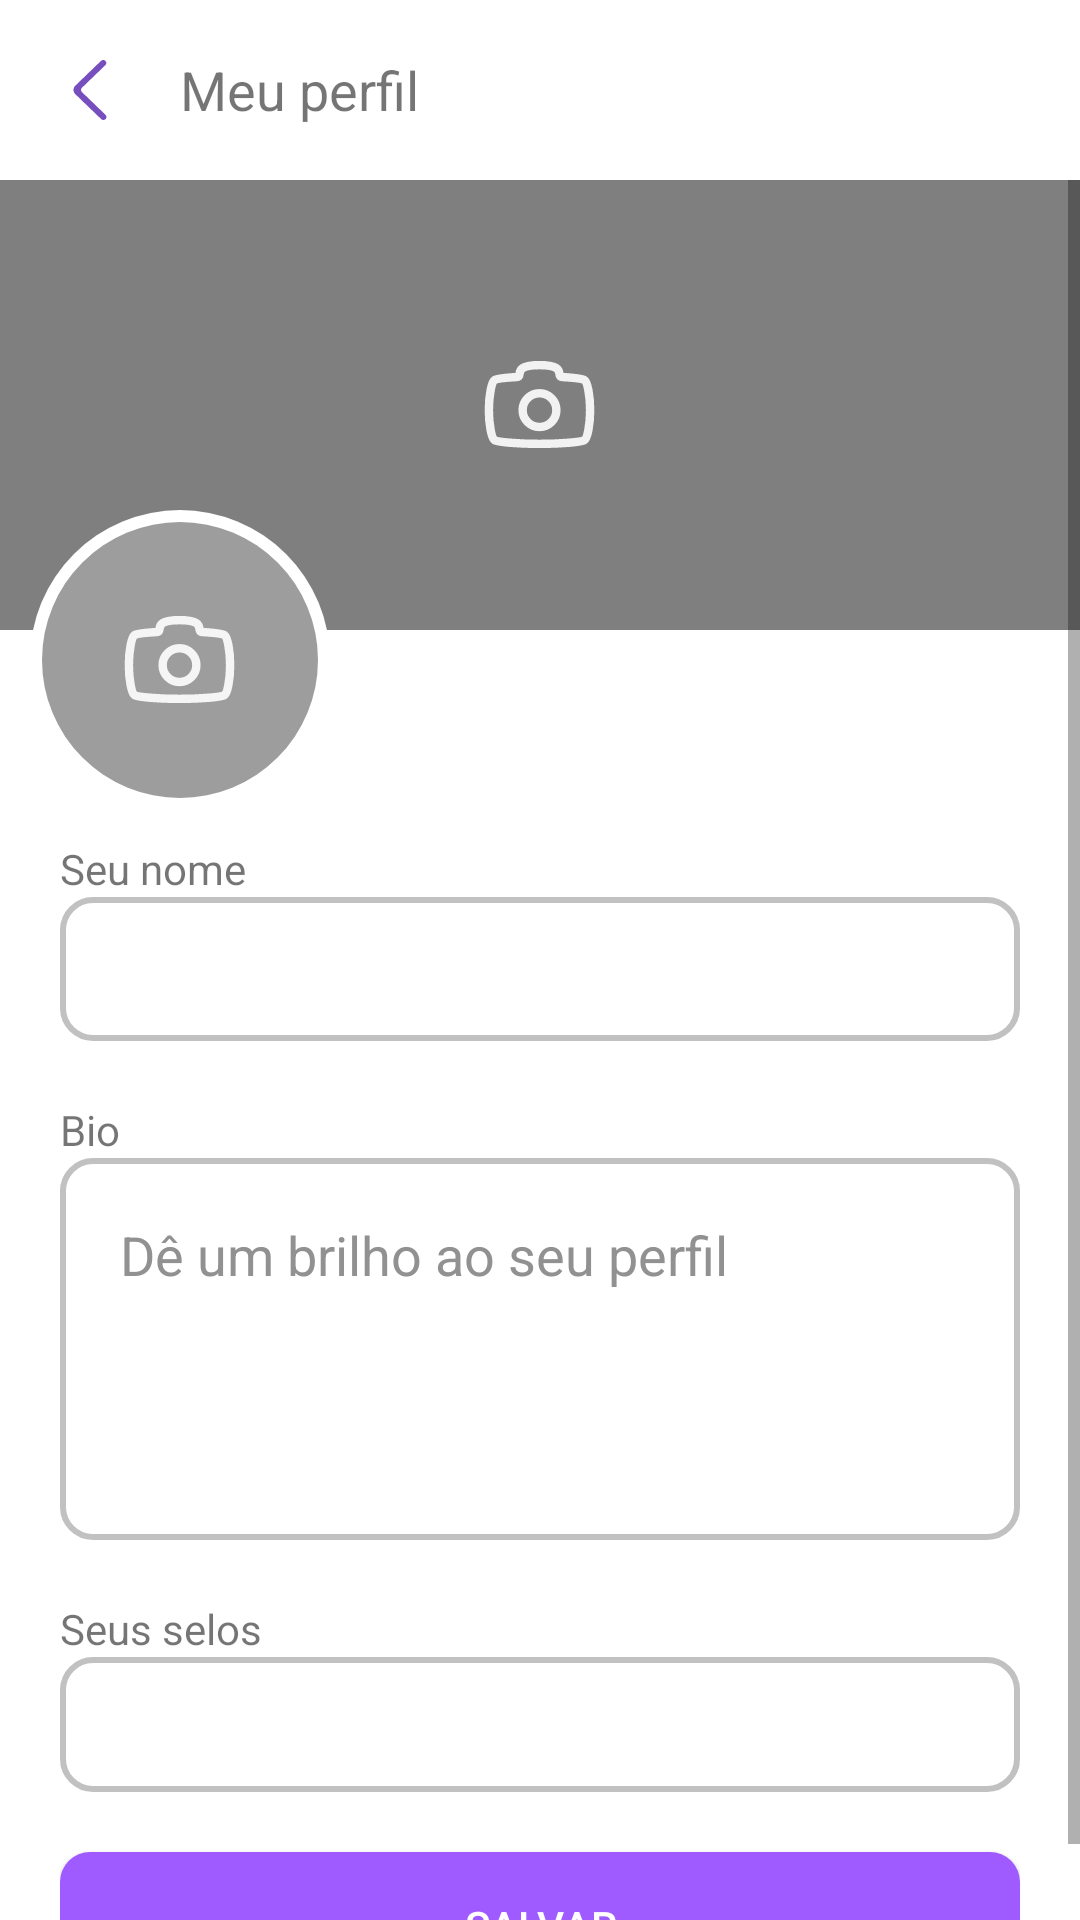

Point at icon controls on the screen. Image size 1080x1920, points as (x,y).
camera: (539,404), (179,659)
voltar: (90,90)
